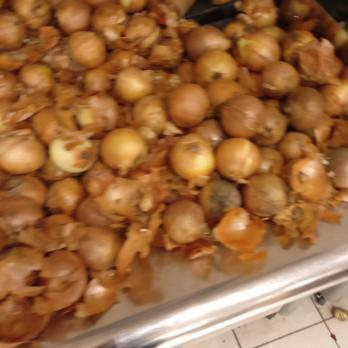Onion: (4, 2, 348, 229), (1, 232, 162, 319)
